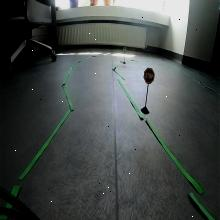stop: (143, 66, 155, 84)
